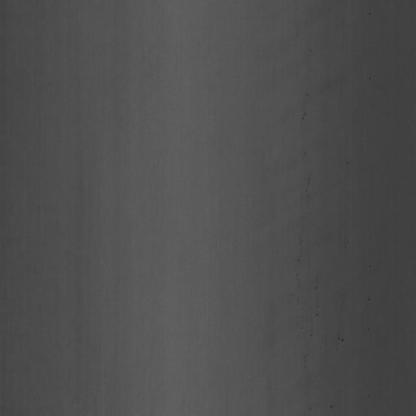inclusion: (301, 100, 312, 220), (312, 268, 322, 326), (335, 331, 349, 351)
